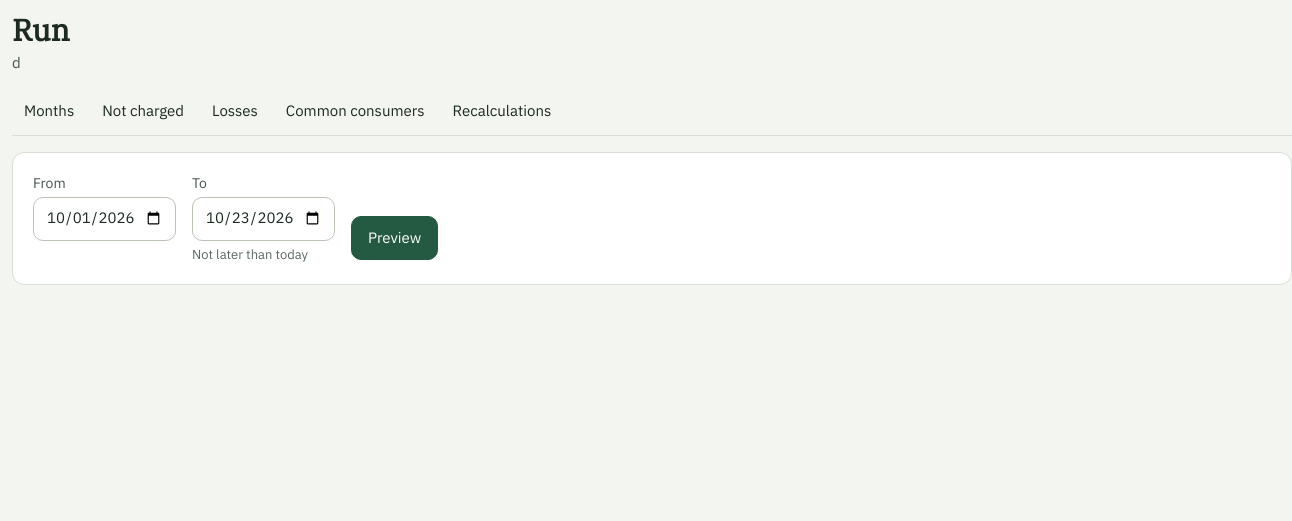
Test: RunRangePage › offers to book a preview that has lines
Click the button "Preview": coordinates (395, 238) [351,216,438,260]
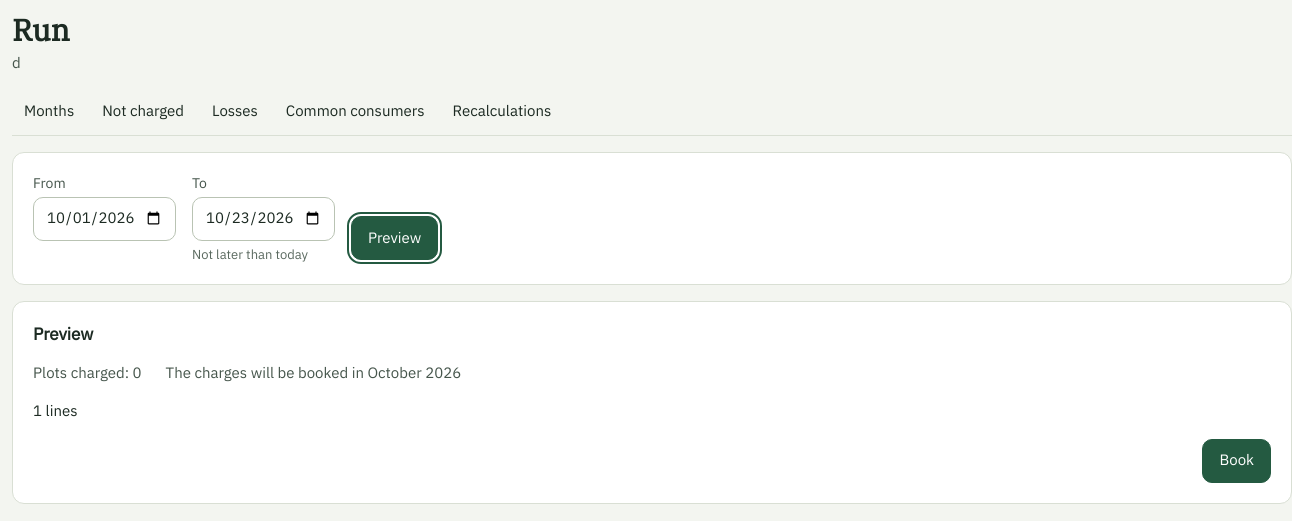
Check: the button "Book" is shown, box [1202,438,1271,482]
